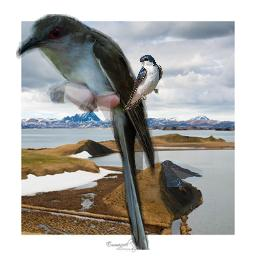Crow: (160, 159, 203, 187)
Cuckoo: (16, 14, 160, 250)
Swallow: (123, 54, 163, 111)
